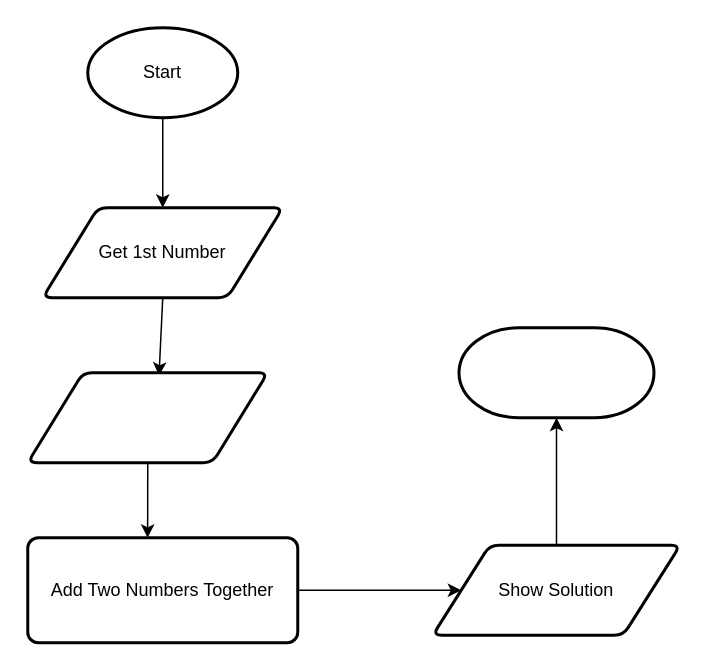
Image size: 707x669. Some labels were removed from this diagram. The box of each missing label's shape, as (x1, y1, x2, y2) in pixels:
Get 2nd Number: (26, 370, 268, 464)
Stop: (457, 326, 655, 418)
